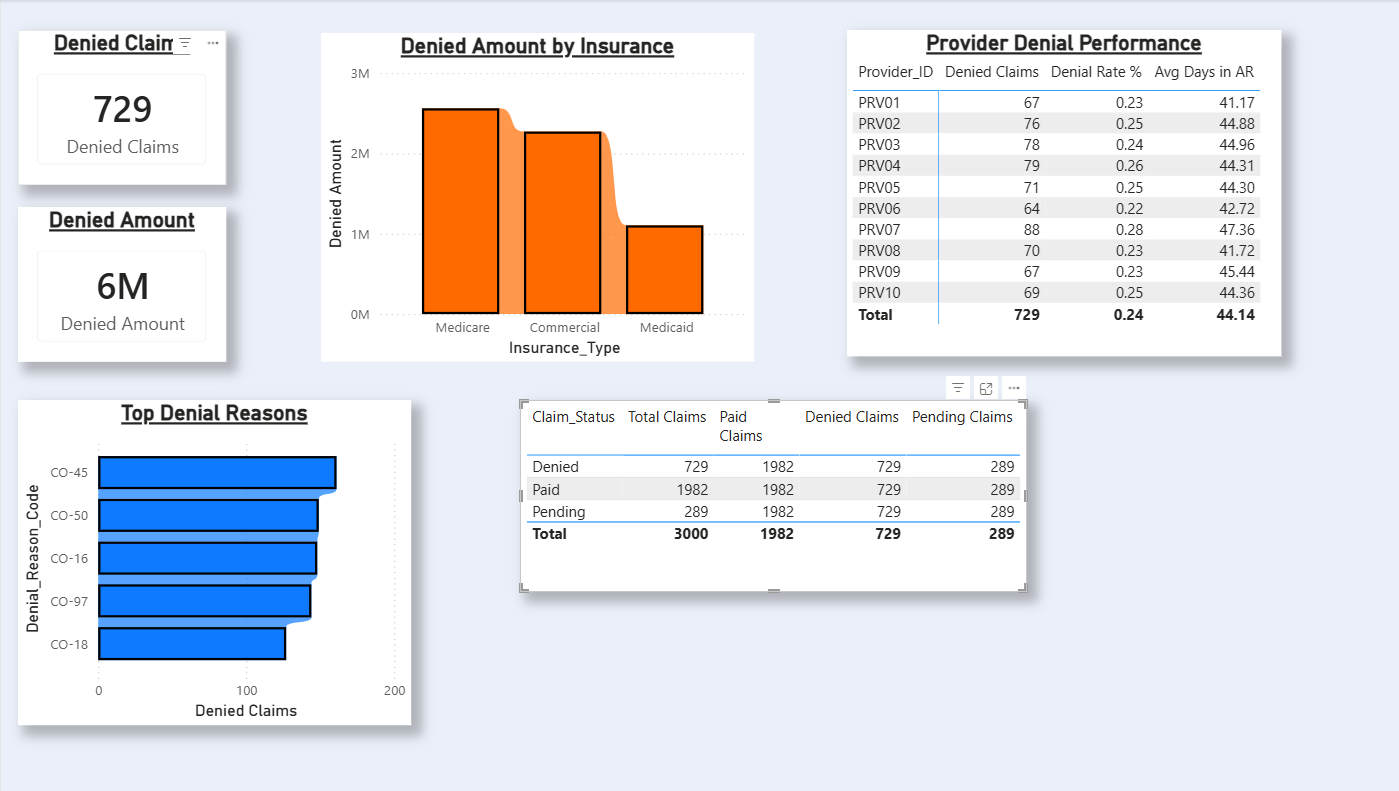

The page's visual inventory and layout, read from the dashboard file:
{"tool":"powerbi","page":{"name":"Denials & Rework Analysis","canvas":[1280,720],"ordinal":2},"visuals":[{"type":"cardVisual","title":"Denied Claims","fields":{"Data":["Claims_Data.Denied Claims"]},"box":[15.4,28.1,186.8,138.7],"z":0},{"type":"cardVisual","title":"Denied Amount","fields":{"Data":["Claims_Data.Denied Amount"]},"box":[15.4,186.8,186.8,138.7],"z":1000},{"type":"barChart","title":"Top Denial Reasons","fields":{"Category":["Claims_Data.Denial_Reason_Code"],"Y":["Claims_Data.Denied Claims"]},"box":[15.4,360,352.7,292],"z":2000},{"type":"columnChart","title":"Denied Amount by Insurance","fields":{"Category":["Claims_Data.Insurance_Type"],"Y":["Claims_Data.Denied Amount"]},"box":[287.3,30.5,388.7,295.4],"z":3000},{"type":"pivotTable","title":"Provider Denial Performance","fields":{"Rows":["Claims_Data.Provider_ID"],"Values":["Claims_Data.Denied Claims","Claims_Data.Denial Rate %","Claims_Data.Avg Days in AR"]},"box":[759.5,27.8,389.6,292.7],"z":4000},{"type":"tableEx","fields":{"Values":["Claims_Data.Claim_Status","Claims_Data.Total Claims","Claims_Data.Paid Claims","Claims_Data.Denied Claims","Claims_Data.Pending Claims"]},"box":[465.9,360,455.2,172.4],"z":6000}]}

Visuals, with their boxes in screenshot pixels (x1, y1, x2, y2), scaled from the page's 1280x720 canvas onto the 1399x791 screenshot:
"Denied Claims" cardVisual: [x1=17, y1=31, x2=221, y2=183]
"Denied Amount" cardVisual: [x1=17, y1=205, x2=221, y2=358]
"Top Denial Reasons" barChart: [x1=17, y1=396, x2=402, y2=716]
"Denied Amount by Insurance" columnChart: [x1=314, y1=34, x2=739, y2=358]
"Provider Denial Performance" pivotTable: [x1=830, y1=31, x2=1256, y2=352]
tableEx - Claims_Data.Claim_Status x Claims_Data.Total Claims: [x1=509, y1=396, x2=1007, y2=585]
